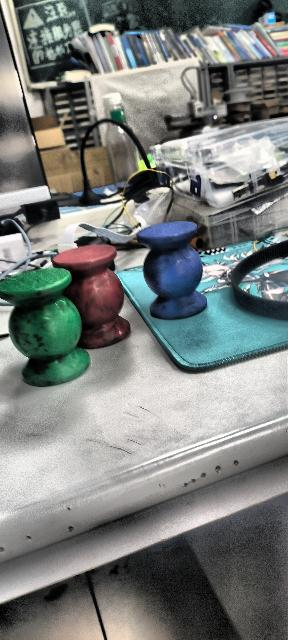blue: (136, 220, 208, 320)
red: (0, 269, 94, 392), (53, 245, 132, 352)
